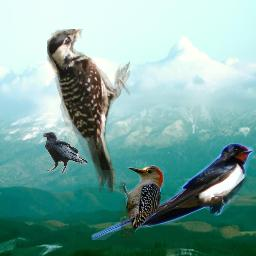Crow: (42, 132, 88, 173)
Swallow: (90, 143, 254, 240)
Woodpecker: (47, 29, 130, 193), (118, 162, 173, 237)
